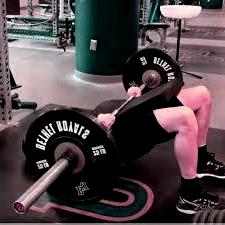Barbell: (10, 200, 24, 217)
